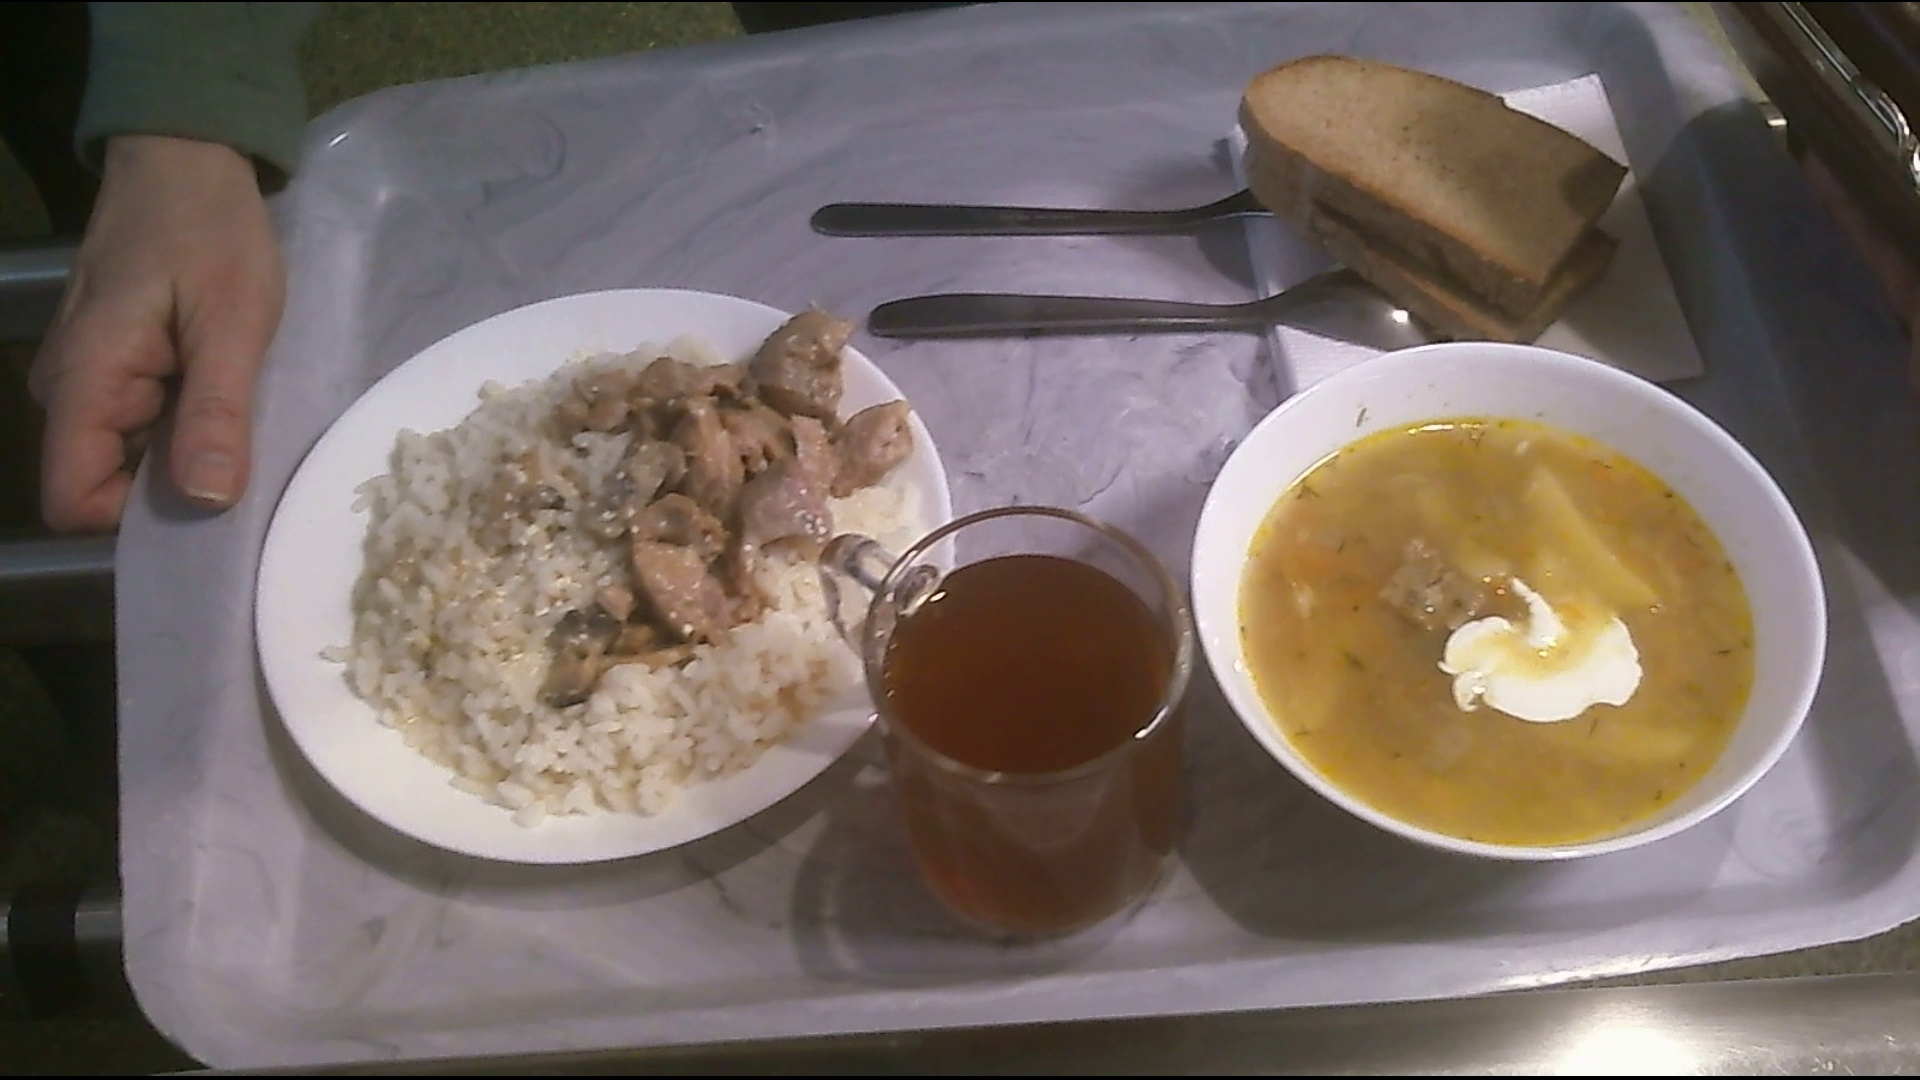bowl: (1188, 344, 1822, 872), (1251, 62, 1623, 342)
cutlery: (866, 272, 1447, 357), (807, 175, 1276, 261)
drink: (876, 502, 1189, 939)
plate: (282, 286, 927, 869)
